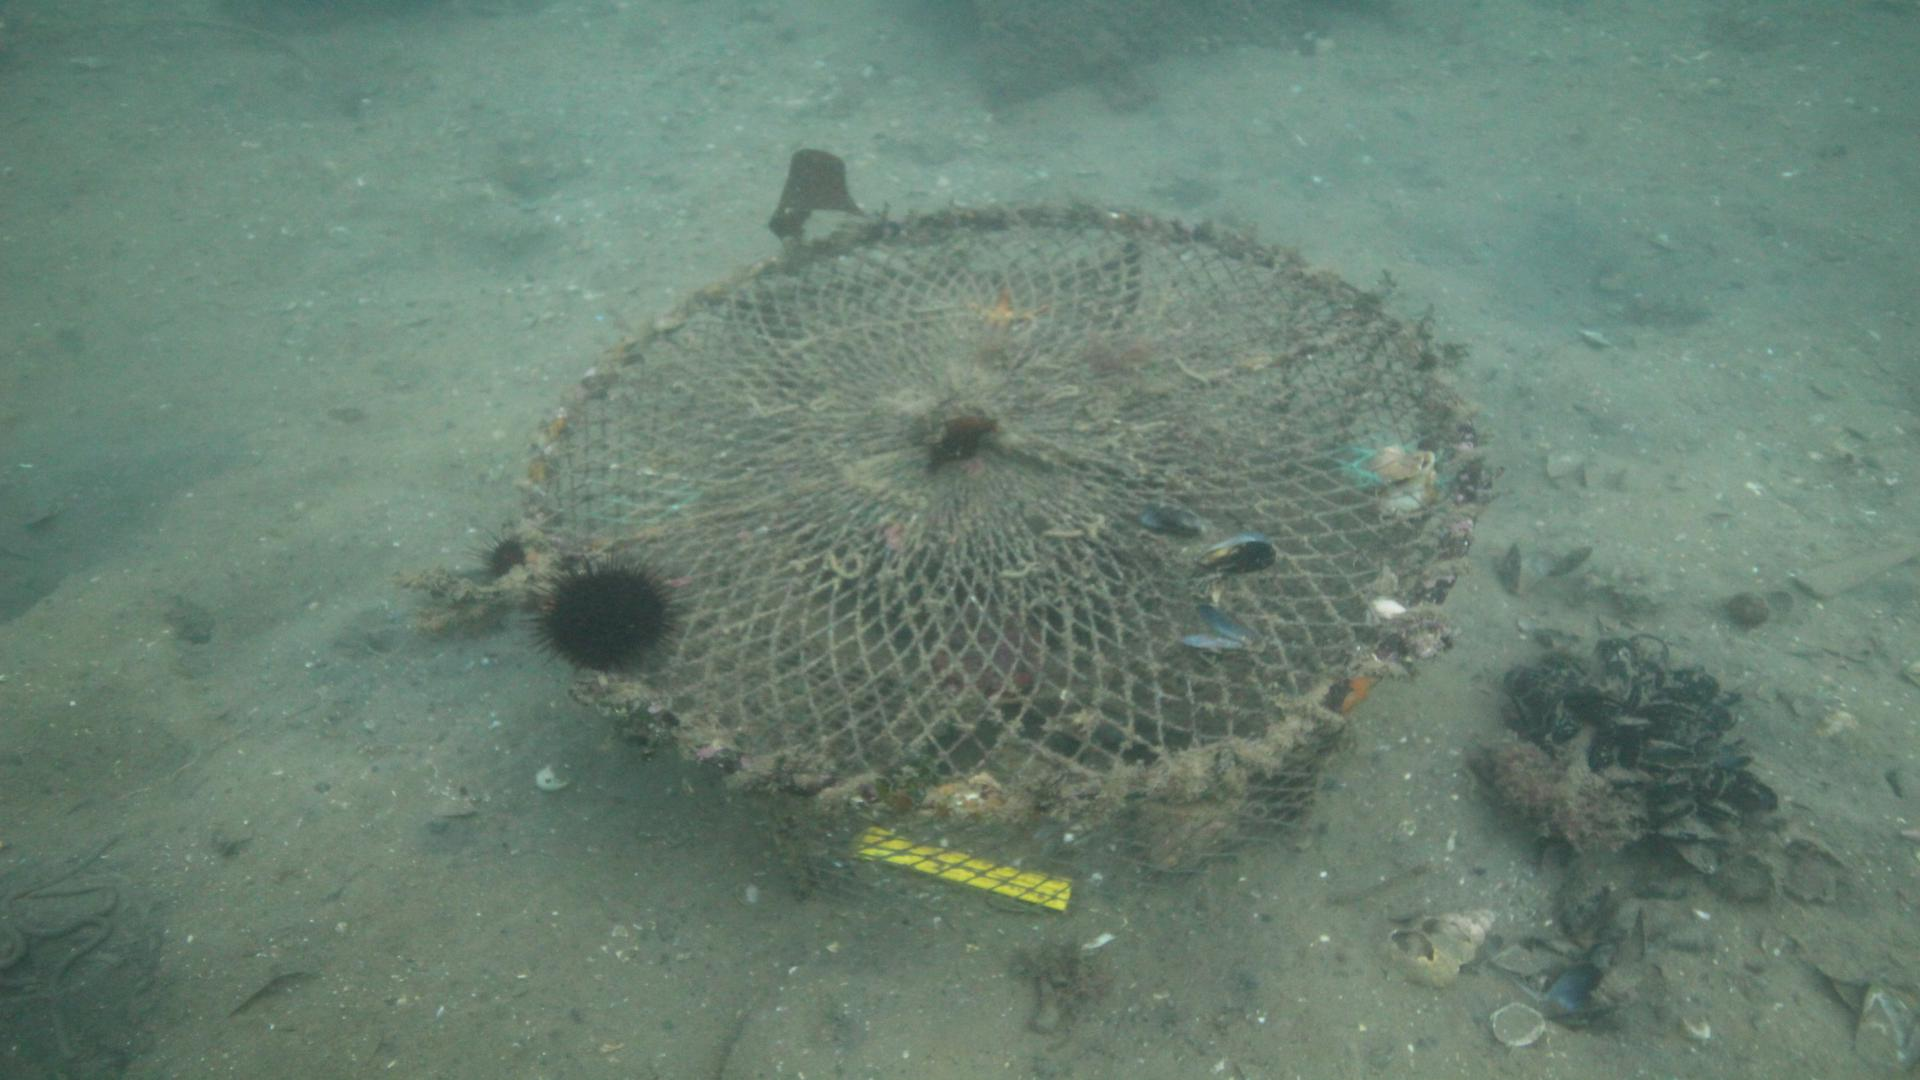circular fish trap: (517, 199, 1487, 930)
